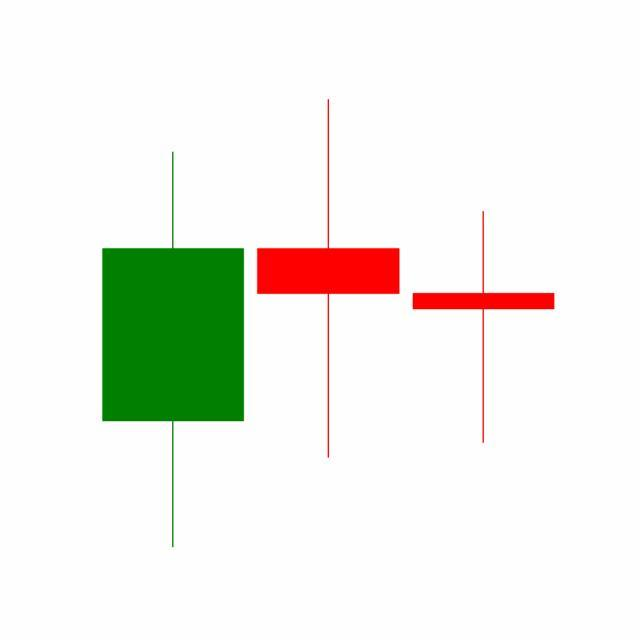Spinning Top: (250, 96, 407, 463)
